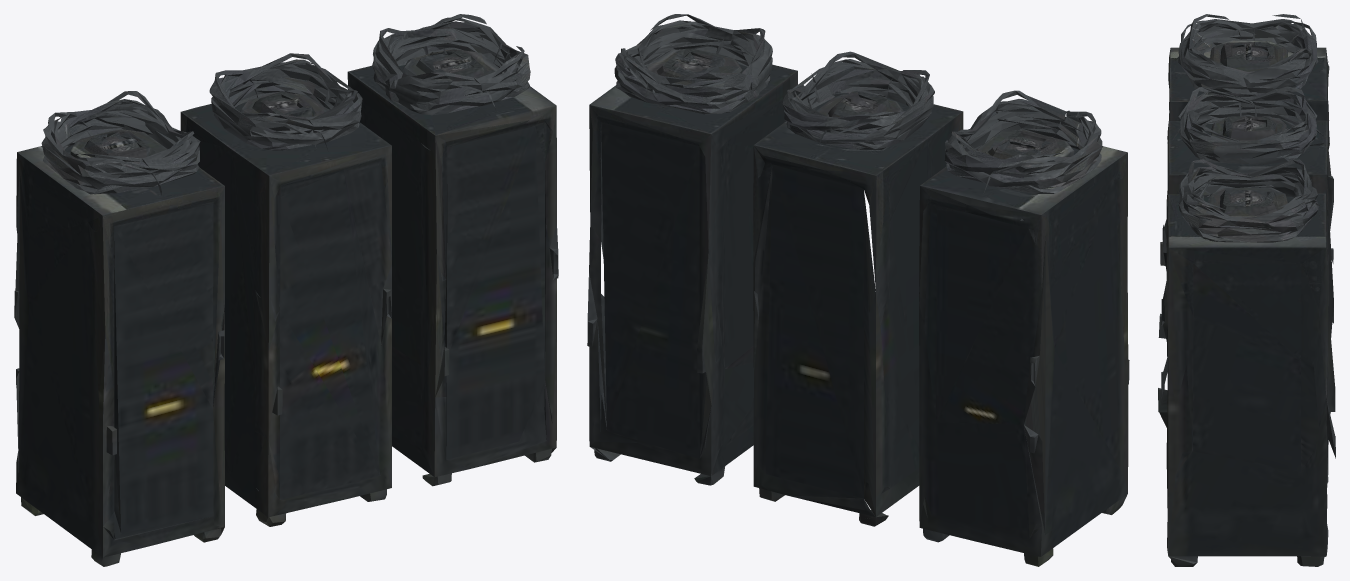
Rendered from lab_racks.glb.
The picture shows the model from 3 angles, left to right: view 1: azimuth 30°, elevation 25°; view 2: azimuth 150°, elevation 25°; view 3: azimuth 270°, elevation 25°; orthographic projection. The views are drawn at different scales.
Bounding box in the file's own units: 1.9 × 1.61 × 0.712.
1 material, 1 textured.
